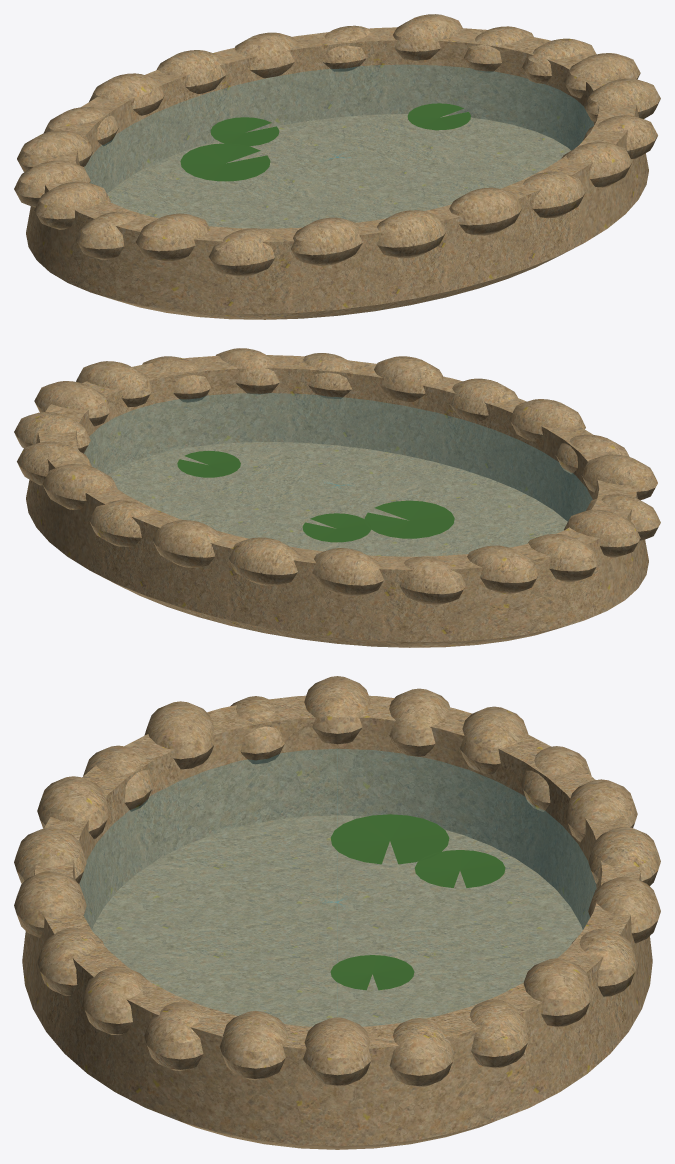
The model's file is estanque_jardin_exterior.glb.
3 renders of one model, top to bottom at view 1: azimuth 30°, elevation 25°; view 2: azimuth 150°, elevation 25°; view 3: azimuth 270°, elevation 25°, orthographic. The views are drawn at different scales.
Parts seen in each view (by area): view 1: estanque_jardin_exterior; view 2: estanque_jardin_exterior; view 3: estanque_jardin_exterior.
Part boxes in pixels (box(x1,y1,x2,y2)): estanque_jardin_exterior: box(14, 14, 660, 319); estanque_jardin_exterior: box(14, 348, 660, 647); estanque_jardin_exterior: box(14, 676, 660, 1149).
Size of the model in its own units: 2.61 by 0.412 by 1.85.
3 materials, 1 textured.
